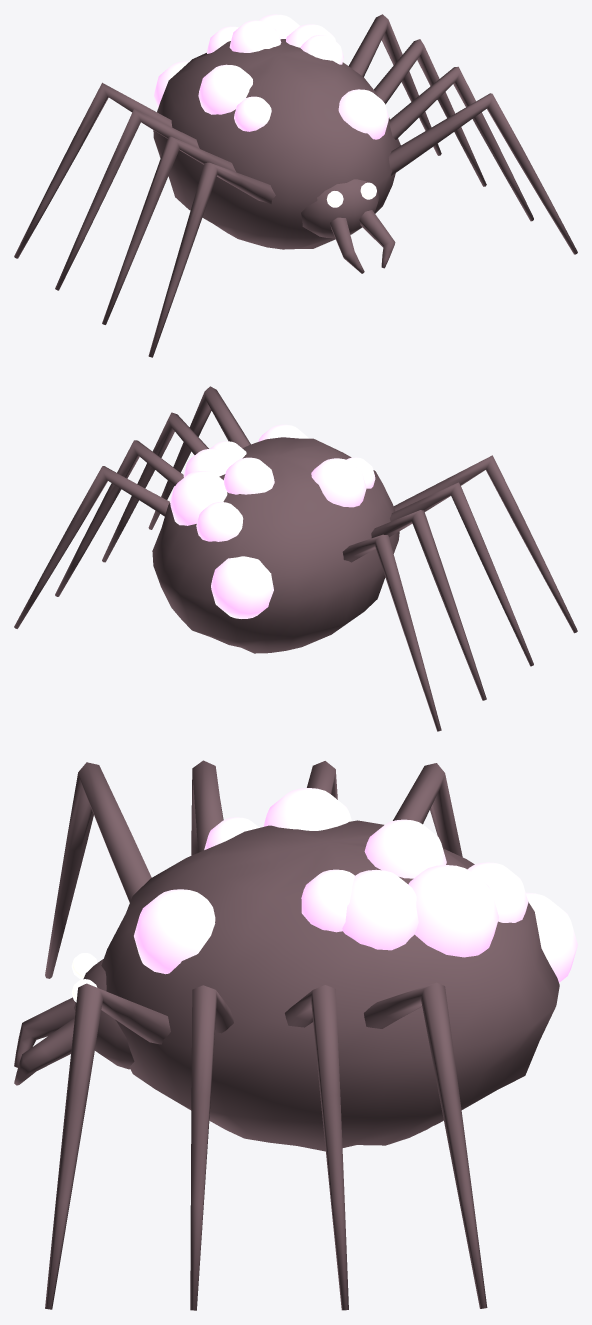
Rendered from spore_tick.glb.
3 renders of one model, top to bottom at view 1: azimuth 30°, elevation 25°; view 2: azimuth 150°, elevation 25°; view 3: azimuth 270°, elevation 25°, orthographic. The views are drawn at different scales.
Visible parts, largest first — view 1: SporeTick; view 2: SporeTick; view 3: SporeTick.
Part boxes in pixels (bbox=[...]): SporeTick: bbox=[14, 14, 577, 357]; SporeTick: bbox=[14, 386, 577, 731]; SporeTick: bbox=[14, 760, 577, 1310].
Bounding box in the file's own units: 1.29 × 0.5748 × 0.909.
